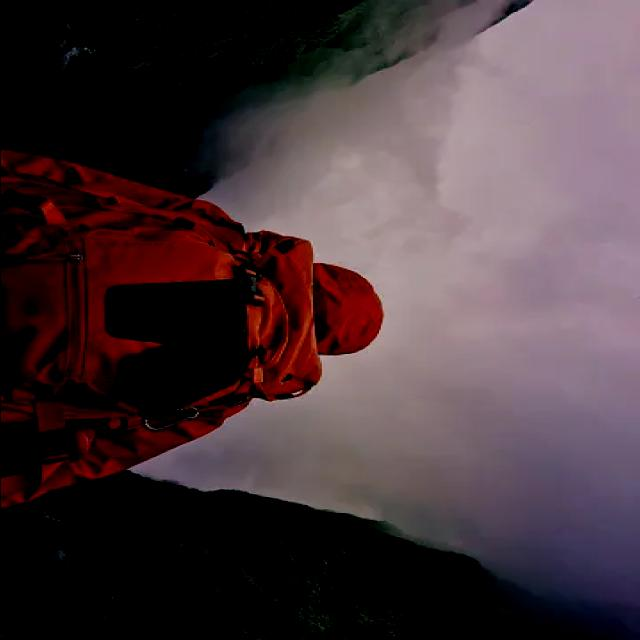backpack: (3, 148, 387, 510)
